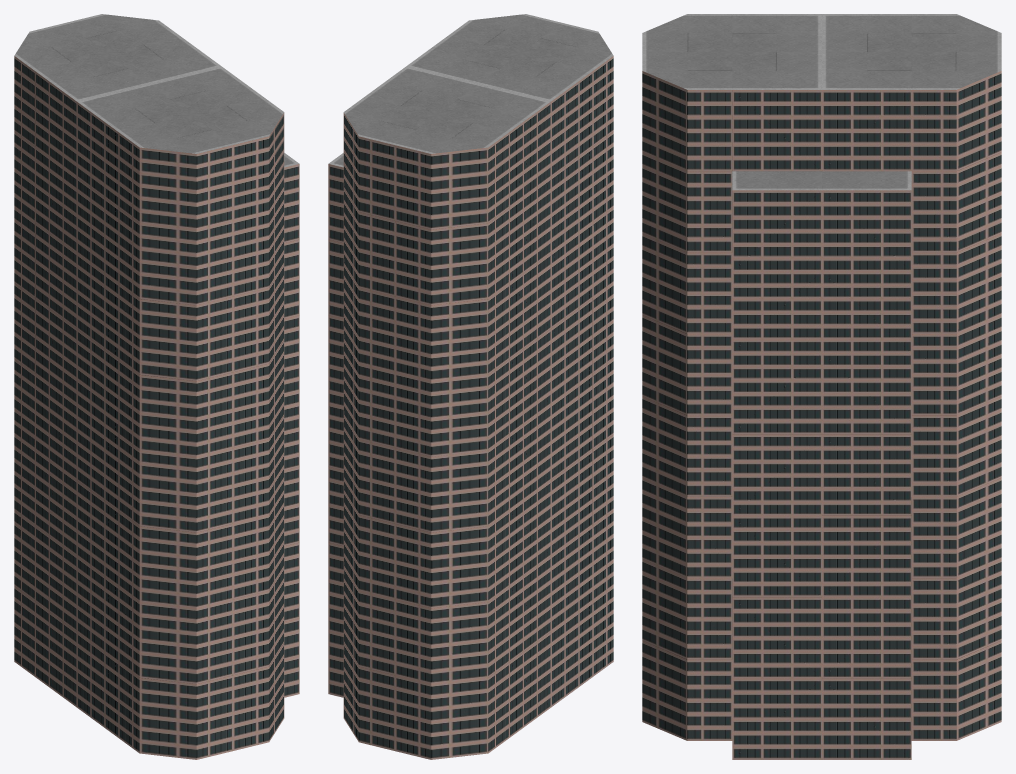
3 views of the same model, side by side, from view 1: azimuth 30°, elevation 25°; view 2: azimuth 150°, elevation 25°; view 3: azimuth 270°, elevation 25° (orthographic). The views are drawn at different scales.
Parts seen in each view (by area): view 1: Building_octagonLongTier; view 2: Building_octagonLongTier; view 3: Building_octagonLongTier.
Boxes of the visible parts, left/top/right/bottom form: Building_octagonLongTier: left=14, top=14, right=299, bottom=759; Building_octagonLongTier: left=328, top=14, right=613, bottom=759; Building_octagonLongTier: left=642, top=14, right=1001, bottom=759.
Bounding box in the file's own units: 3750 × 12000 × 6000.
1 material, 1 textured.
